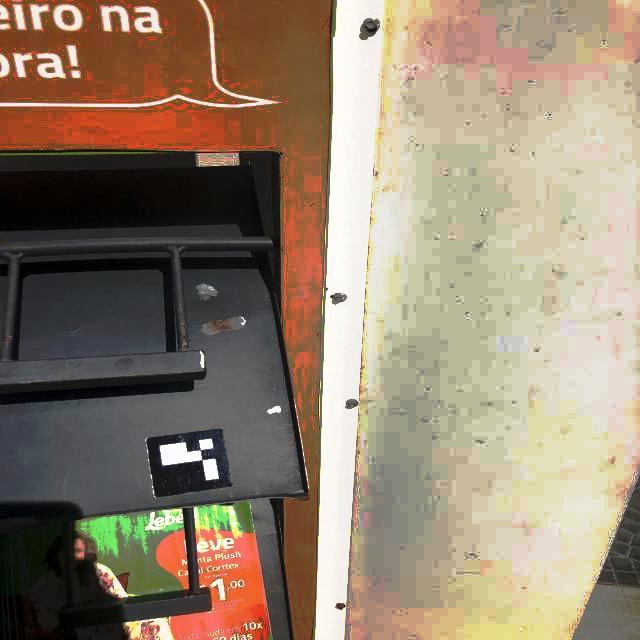Corrosion: (207, 317, 235, 333), (365, 26, 377, 31), (120, 375, 136, 378), (337, 604, 345, 609), (200, 350, 205, 355), (3, 336, 11, 339), (43, 380, 51, 383), (24, 382, 35, 384), (183, 343, 189, 346), (0, 243, 9, 245), (182, 324, 186, 328), (174, 372, 179, 374), (184, 336, 186, 338), (36, 381, 38, 382), (338, 296, 339, 297)
